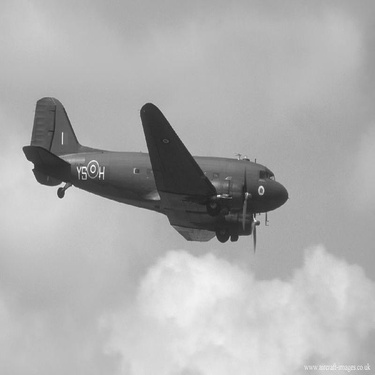airplane: (24, 89, 294, 253)
